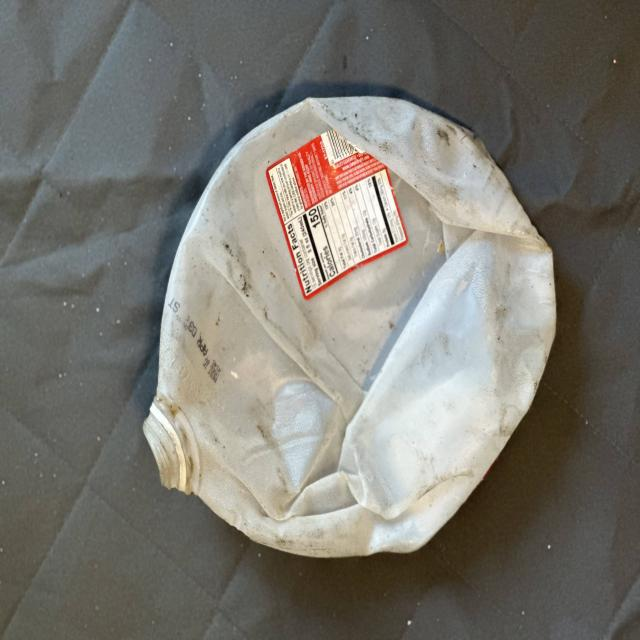milk-jug: (138, 88, 554, 561)
